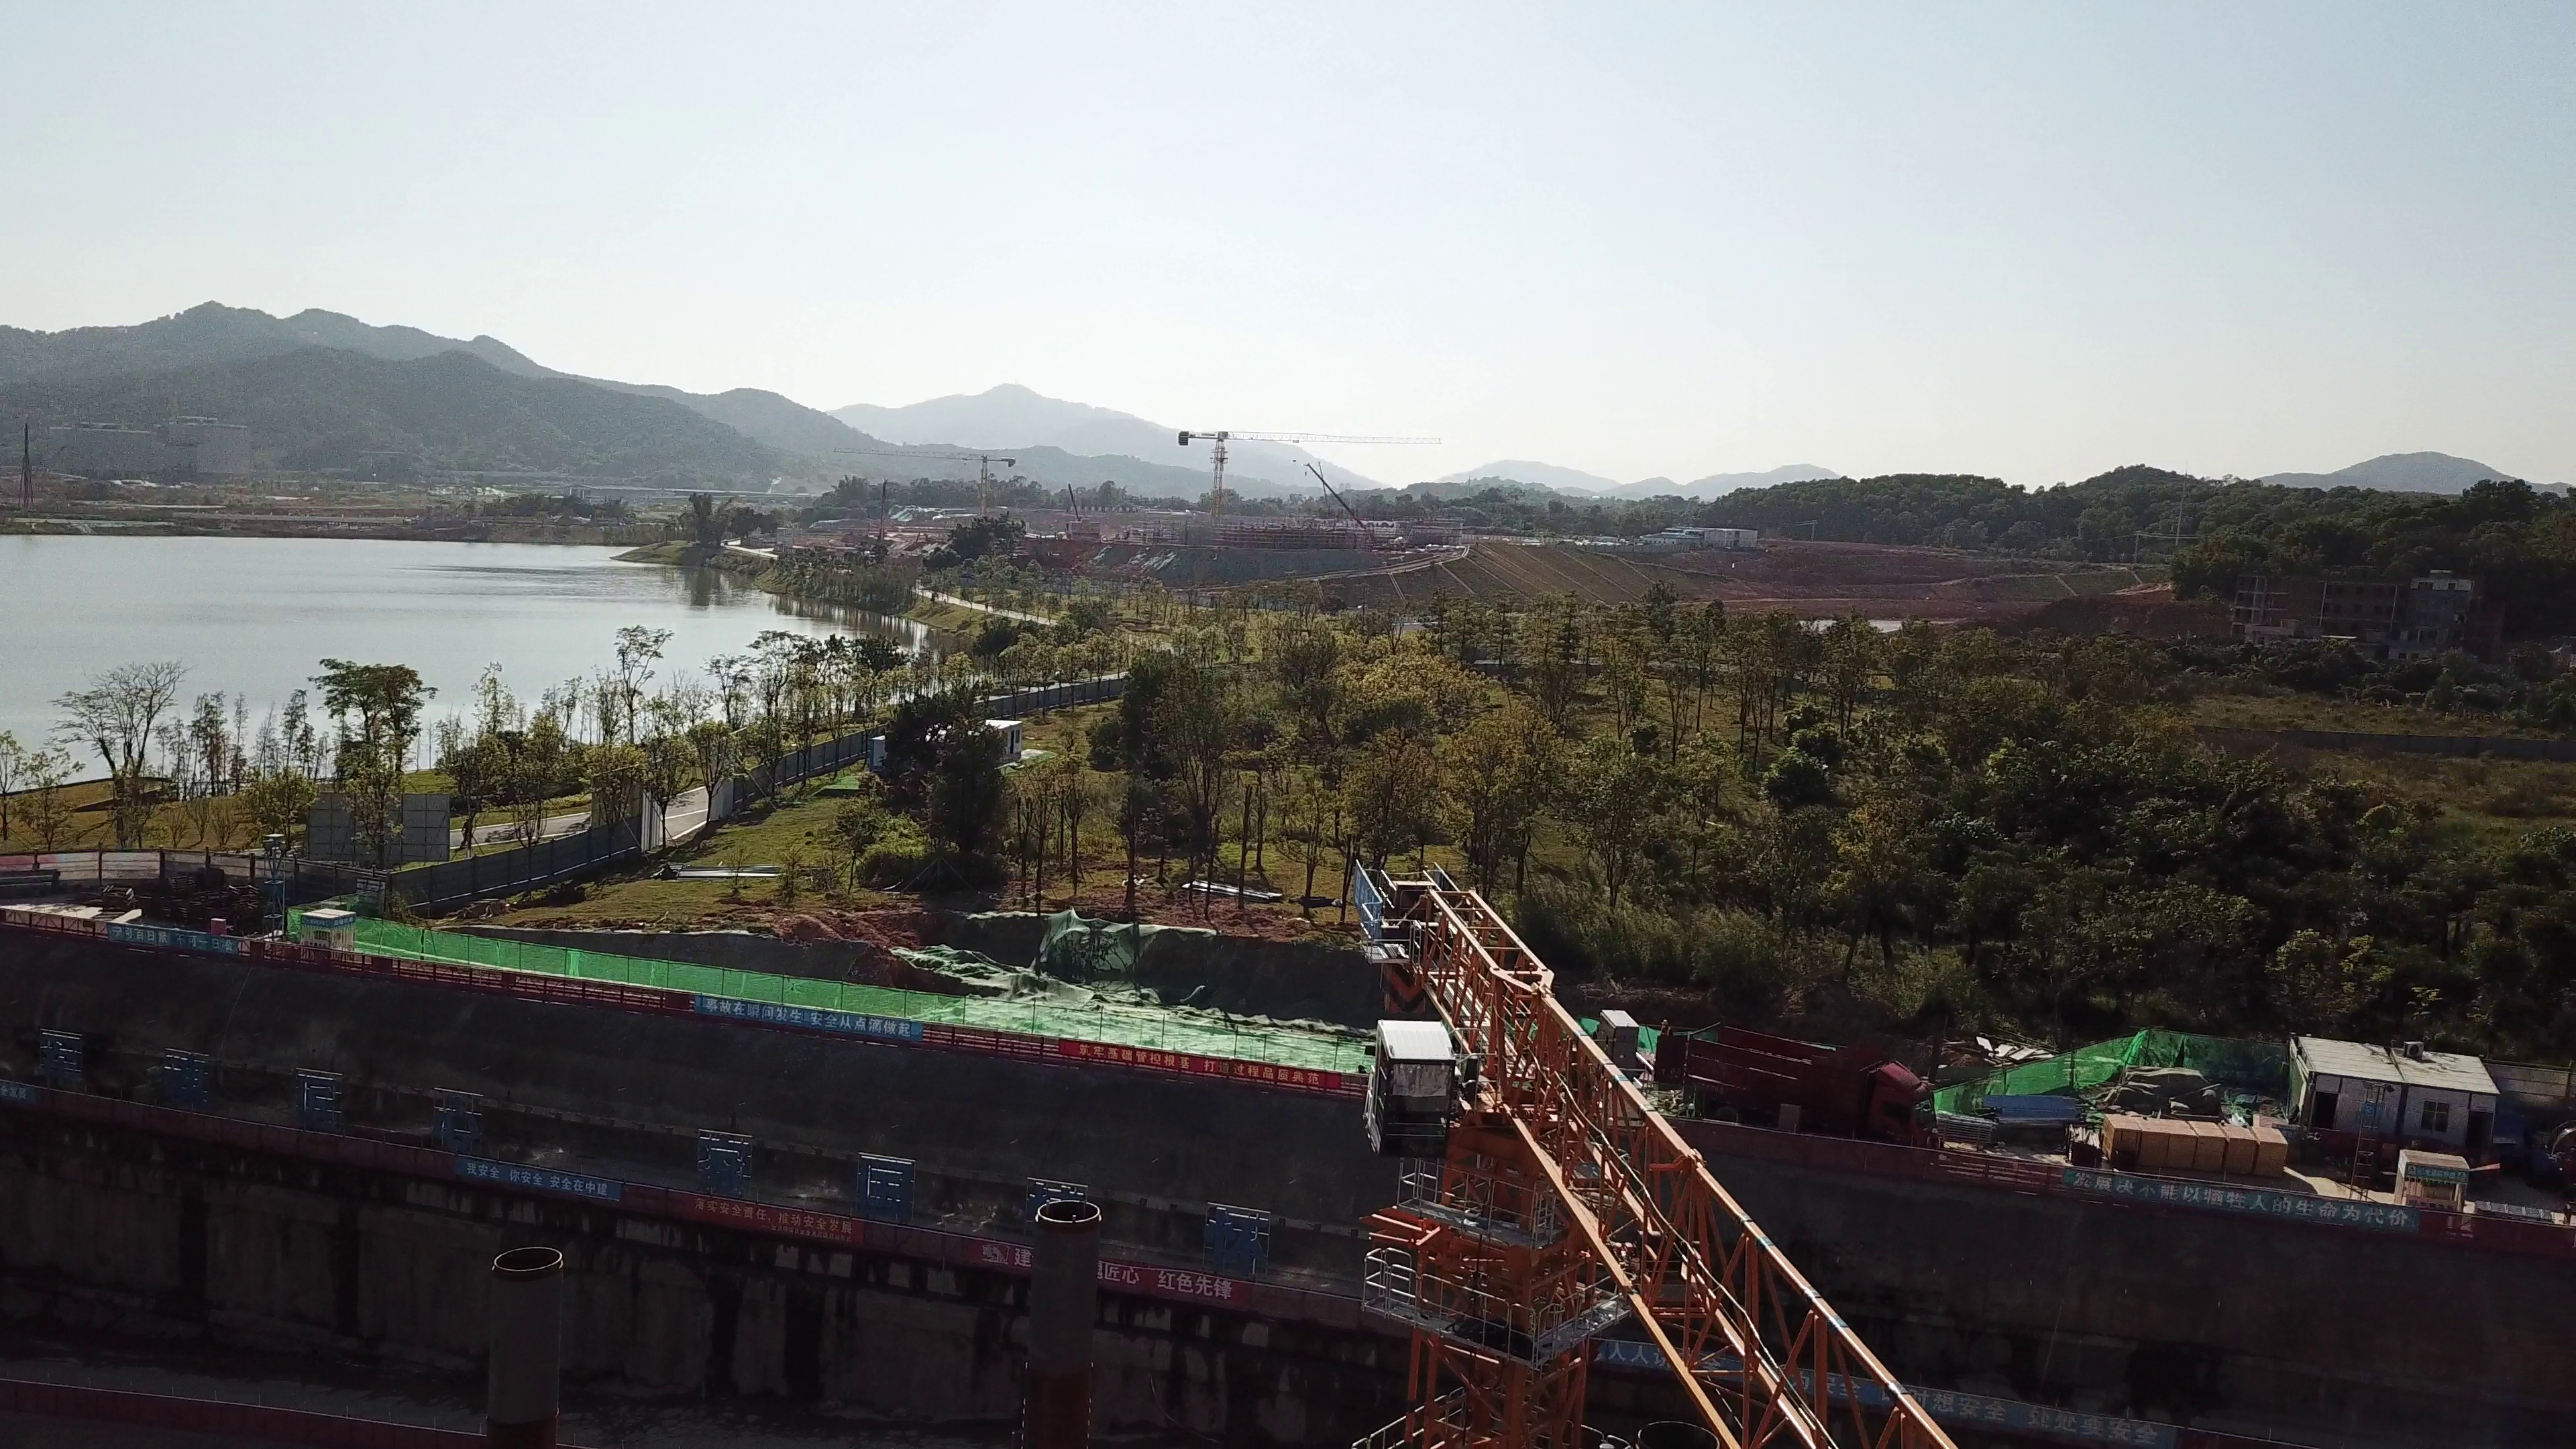helmet: (1661, 1020, 1668, 1024)
person: (1655, 1016, 1680, 1040)
scaffold: (1941, 1112, 2006, 1146), (2063, 1126, 2096, 1164)
slogan: (1593, 1340, 2201, 1426), (2070, 1169, 2404, 1230), (988, 1244, 1246, 1302), (1072, 1036, 1340, 1087), (702, 991, 921, 1042), (700, 1197, 871, 1254), (458, 1161, 620, 1203), (103, 922, 246, 957)
vest: (1659, 1026, 1671, 1034)
wood: (2102, 1113, 2301, 1179)
